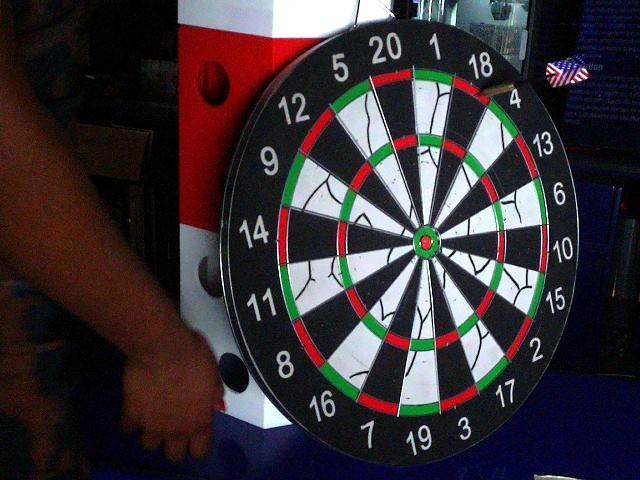single_14: (289, 212, 337, 261), (348, 225, 410, 255)
single_16: (371, 257, 417, 322), (332, 324, 377, 387)
single_20: (398, 149, 423, 225), (379, 86, 413, 139)
single_3: (438, 342, 473, 401), (436, 277, 456, 337)
single_4: (439, 165, 477, 221), (470, 115, 512, 159)
single_6: (442, 206, 496, 238), (502, 185, 541, 229)
